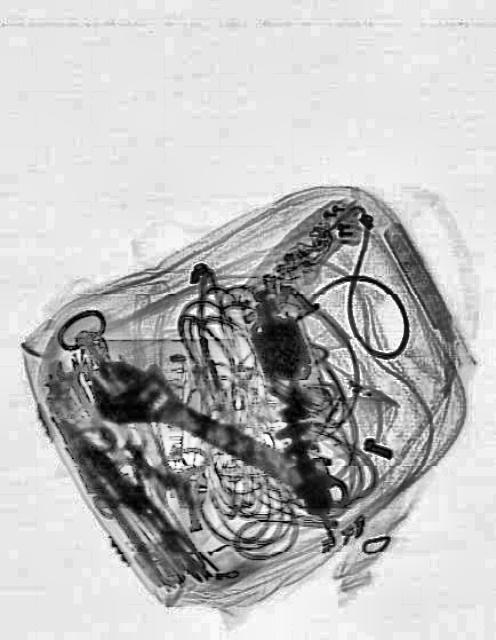Pliers: (47, 404, 185, 576)
Wrench: (80, 337, 360, 537)
